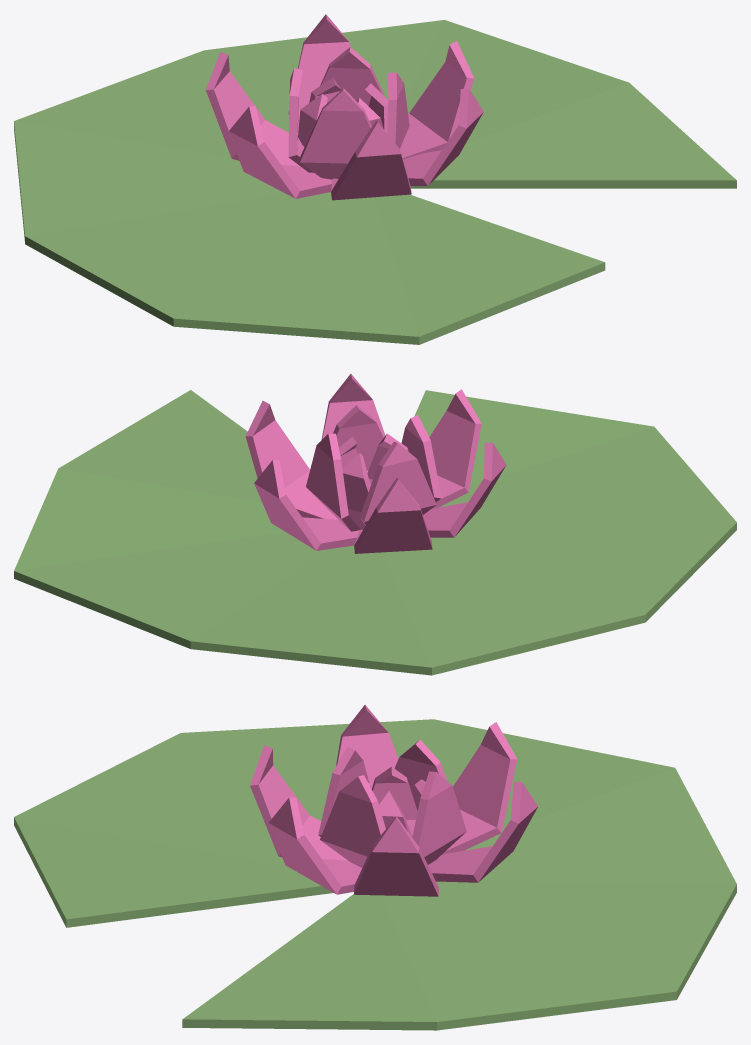
File: lilypad.glb
The picture shows the model from 3 angles, top to bottom: view 1: azimuth 30°, elevation 25°; view 2: azimuth 150°, elevation 25°; view 3: azimuth 270°, elevation 25°; orthographic projection. The views are drawn at different scales.
Parts seen in each view (by area): view 1: Lilypad; view 2: Lilypad; view 3: Lilypad.
Boxes of the visible parts, x1,y1,x2,y2 form: Lilypad: (14, 14, 736, 344); Lilypad: (14, 374, 736, 675); Lilypad: (14, 705, 736, 1030).
Size of the model in its own units: 1.2 by 0.2208 by 1.19.
